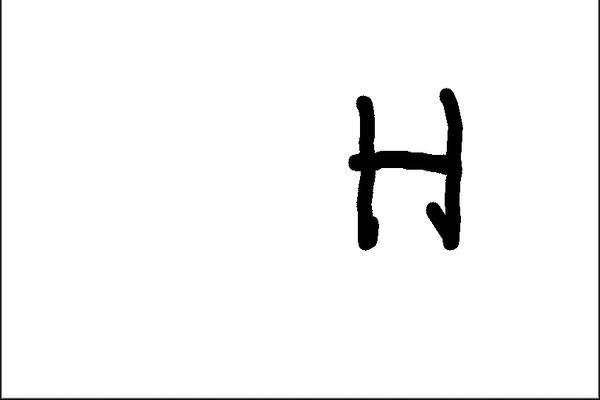H: (342, 84, 469, 253)
